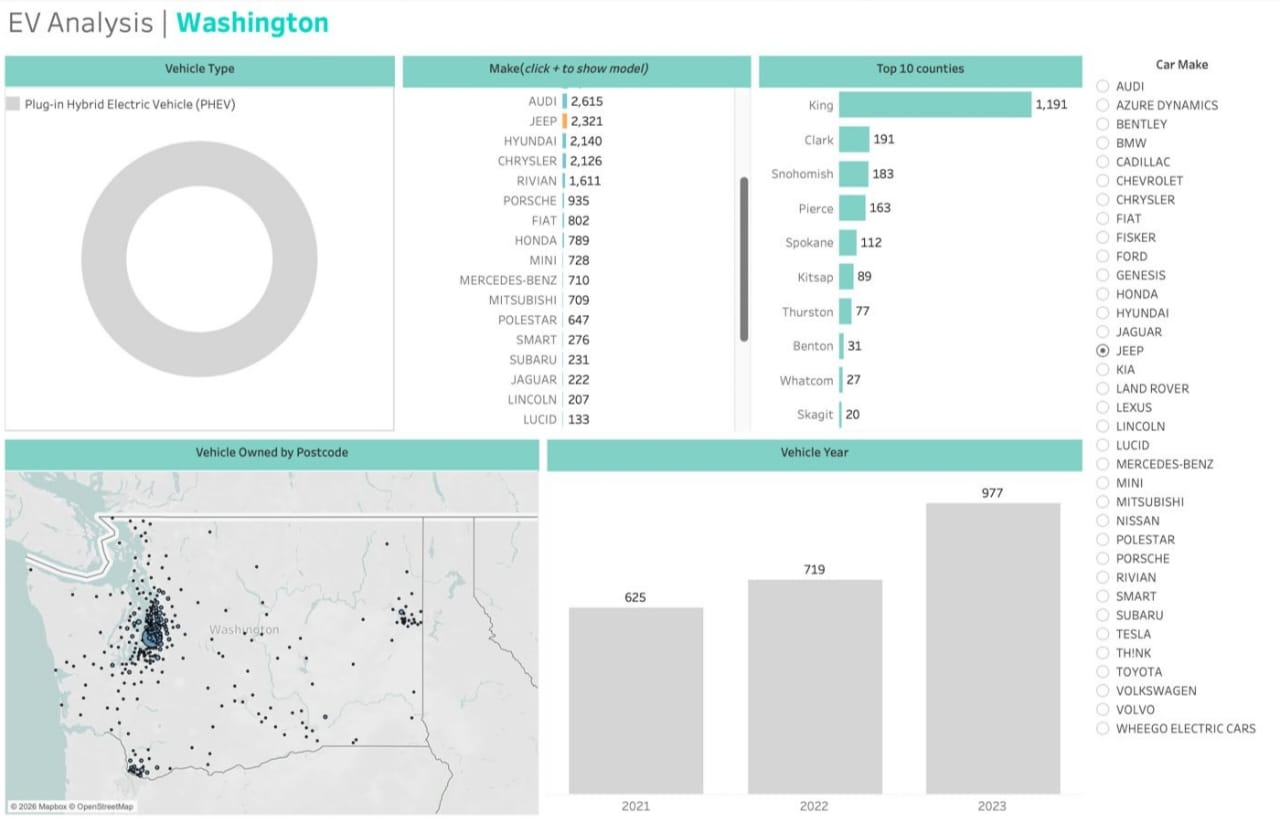

What the dashboard file says about the page in this screenshot:
{"tool":"tableau","page":{"name":"Dashboard 1","canvas":[1300,850],"ordinal":0},"visuals":[{"type":"text","box":[8,8,1284,62.1]},{"type":"worksheet","title":"Vehicle Type Donut","mark":"Pie","rows":["Calculation_0354000409198594","Calculation_0354000409198594"],"box":[8,70.1,399.7,386]},{"type":"worksheet","title":"Make & Model","mark":"Automatic","rows":["Make"],"cols":["DOL Vehicle ID"],"box":[407.7,70.1,358.5,386]},{"type":"worksheet","title":"Top 10 Counties","mark":"Automatic","rows":["County"],"cols":["DOL Vehicle ID"],"box":[766.2,70.1,332.8,386]},{"type":"parameter","param":"[Parameters].[Parameter 1]","box":[1099,70.1,193,702]},{"type":"legend","title":"Vehicle Type Donut","param":"[federated.0u8l1bv1nl4miz18bntms160w3fm].[none:Electric Vehicle Type:nk]","box":[10.5,111.8,407.3,34.3]},{"type":"worksheet","title":"Map","mark":"Automatic","box":[8,456.1,545.5,386]},{"type":"worksheet","title":"Year and Type","mark":"Bar","rows":["DOL Vehicle ID"],"cols":["Model Year"],"box":[553.5,456.1,545.5,386]}]}

Visuals, with their boxes in screenshot pixels (x1, y1, x2, y2), scaled from the page's 1300x850 canvas onto the 1280x822 screenshot:
text: 8,8,1272,68
"Vehicle Type Donut" worksheet (Pie marks): 8,68,401,441
"Make & Model" worksheet: 401,68,754,441
"Top 10 Counties" worksheet: 754,68,1082,441
parameter: 1082,68,1272,747
"Vehicle Type Donut" legend: 10,108,411,141
"Map" worksheet: 8,441,545,814
"Year and Type" worksheet (Bar marks): 545,441,1082,814
